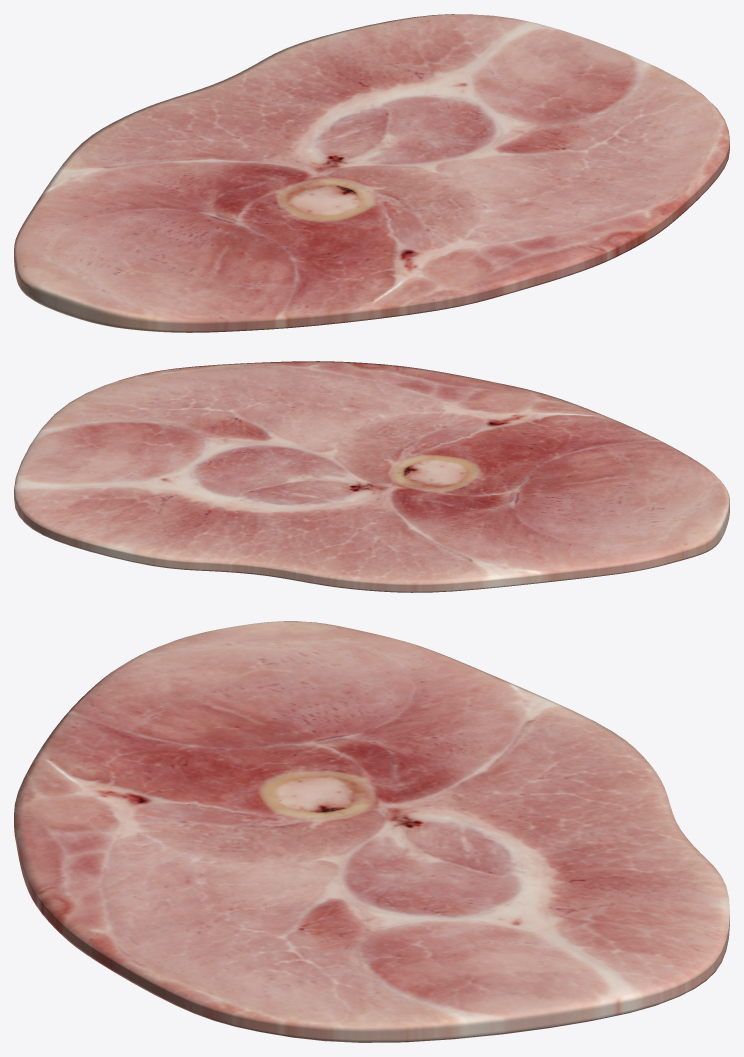
File: ham.fbx
3 views of the same model, one above another, from view 1: azimuth 30°, elevation 25°; view 2: azimuth 150°, elevation 25°; view 3: azimuth 270°, elevation 25° (orthographic). The views are drawn at different scales.
Parts seen in each view (by area): view 1: slice of ham; view 2: slice of ham; view 3: slice of ham.
Part boxes in pixels (box(x1,y1,x2,y2)): slice of ham: box(14, 14, 729, 332); slice of ham: box(14, 361, 729, 592); slice of ham: box(14, 621, 729, 1042).
Bounding box in the file's own units: 2.04 × 0.0546 × 1.52.
